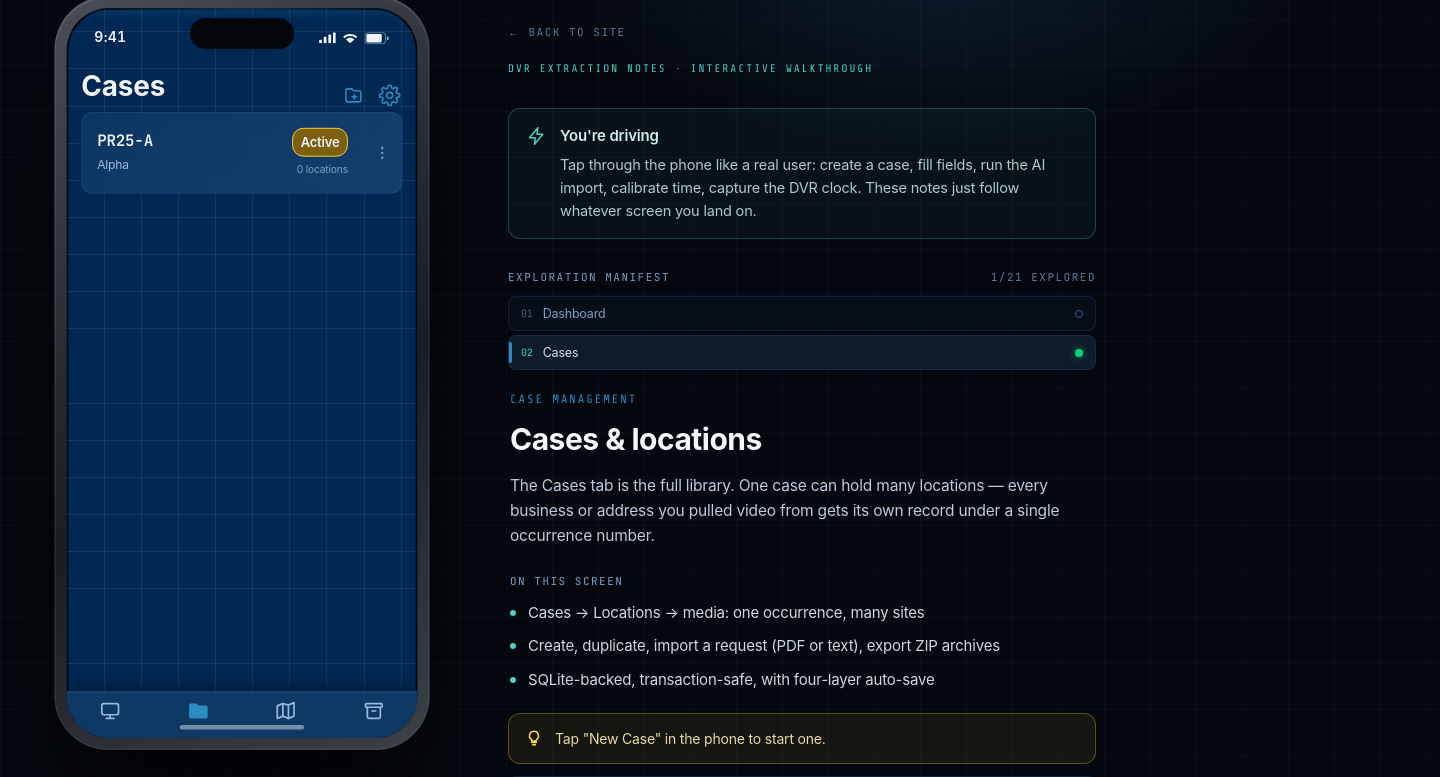
Scenario: DemoExperience — Map case picker › shows the mandatory picker (no Cancel) when no viewer case is chosen
The width and height of the screenshot is (1440, 777).
What coordinates should you click on to do the following:
click the button named "Map"
I would click on:
 (286, 712)
Its box is [242, 698, 330, 727].
(page scrolled)
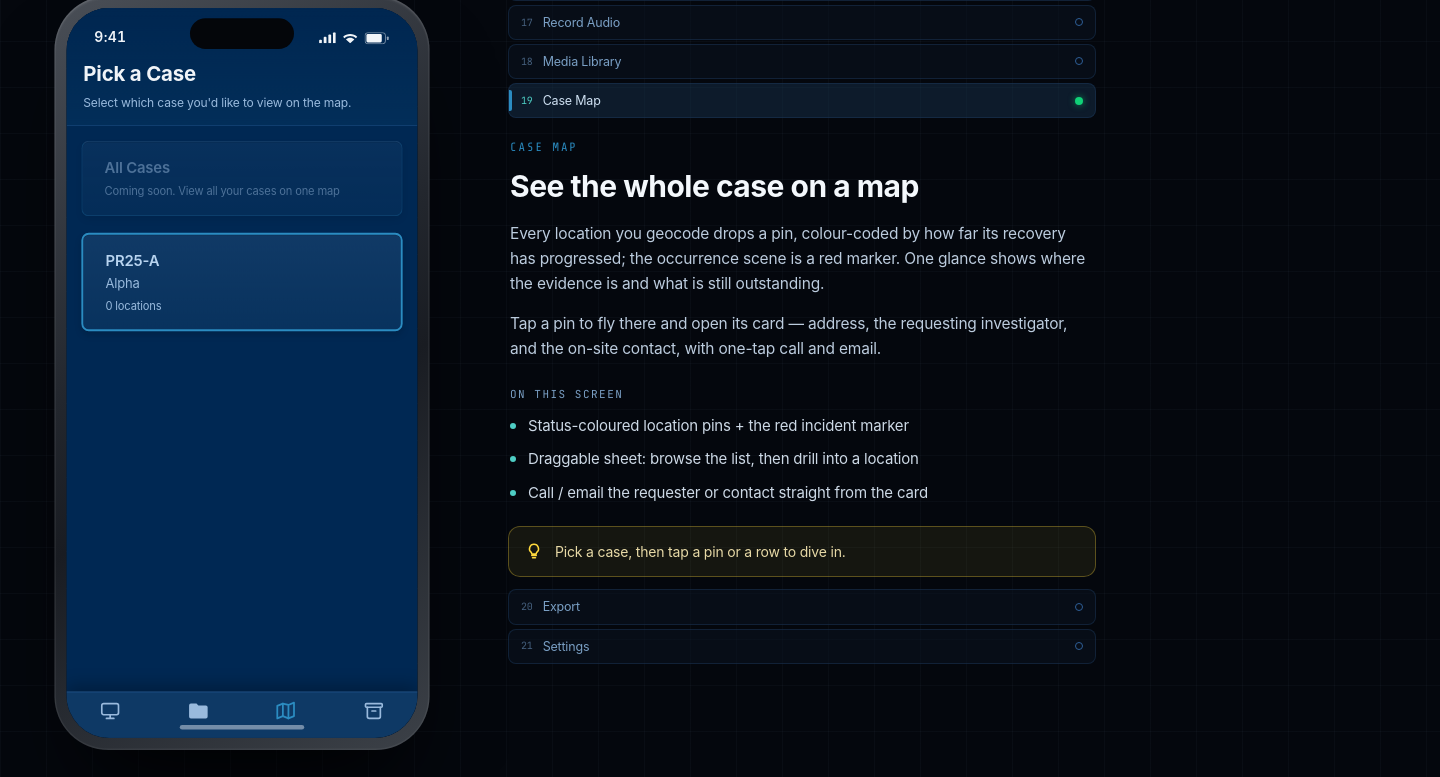
Expected: the text "Pick a Case" is shown, [83, 61, 196, 85]
